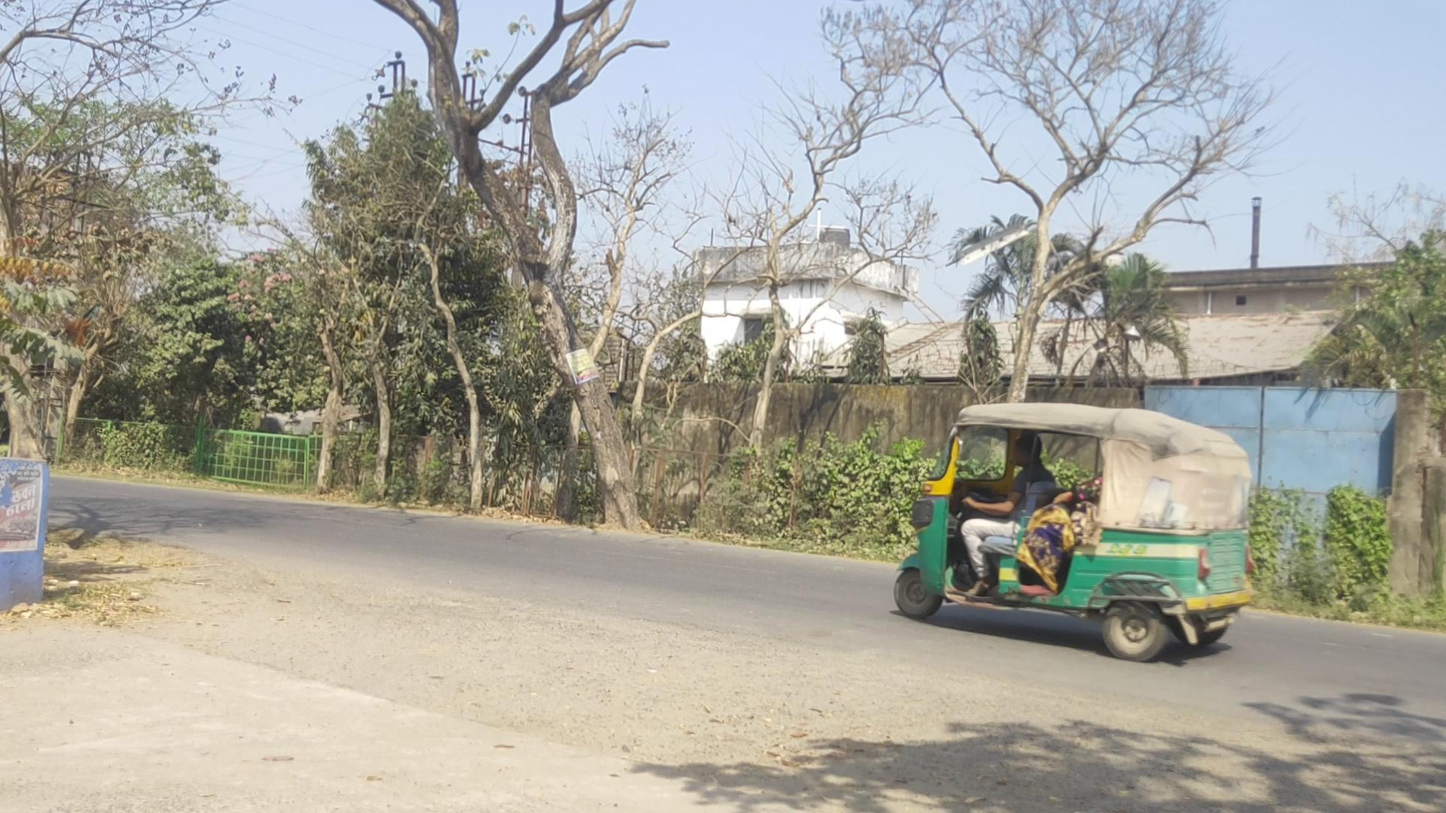Auto: (892, 401, 1254, 663)
